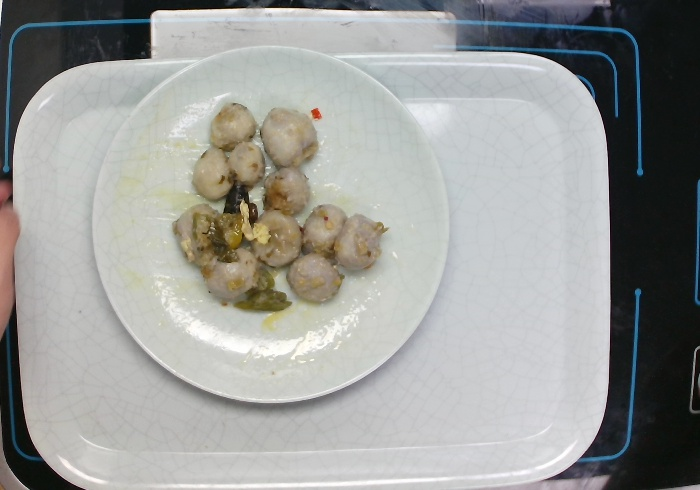JYsf-Da_Yuan_Pan: (88, 40, 456, 411)
